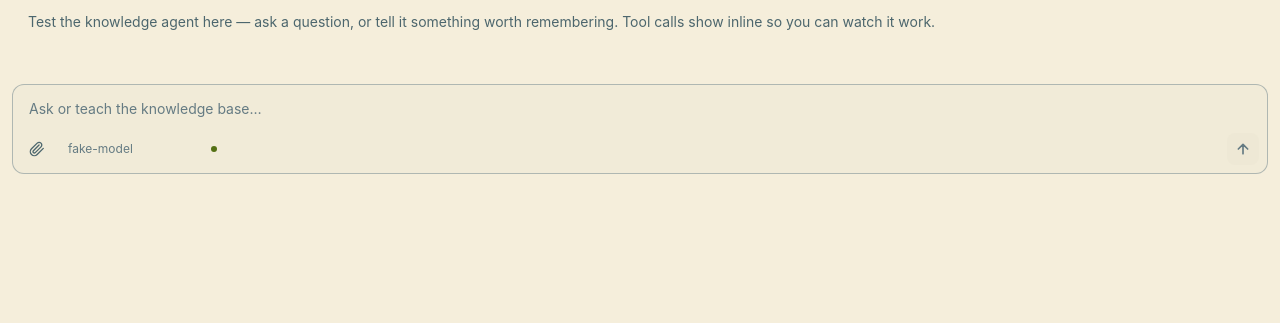
ChatPanel › sends a chosen model when the server allows overrides
The image size is (1280, 323).
Step 1. Type "other" into the field named "Model override" → (133, 149), box [61,136,205,162]
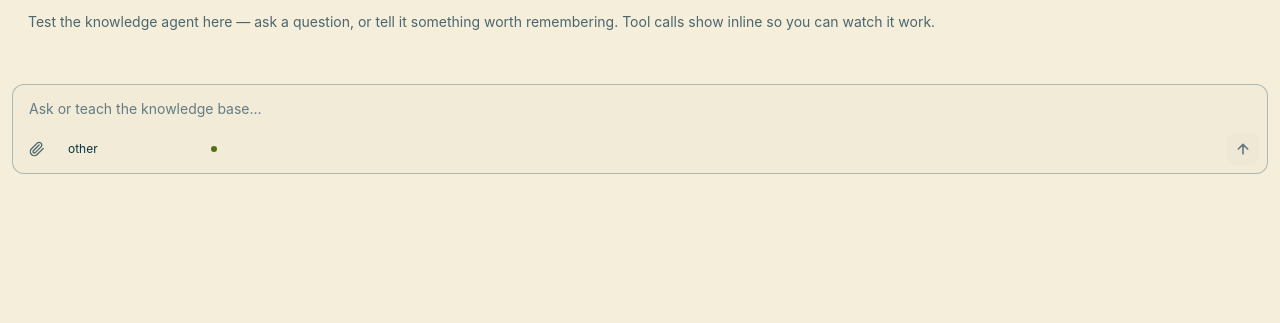
Step 2. Click the field named "Message the agent" → (640, 109), box [13,85,1267,133]
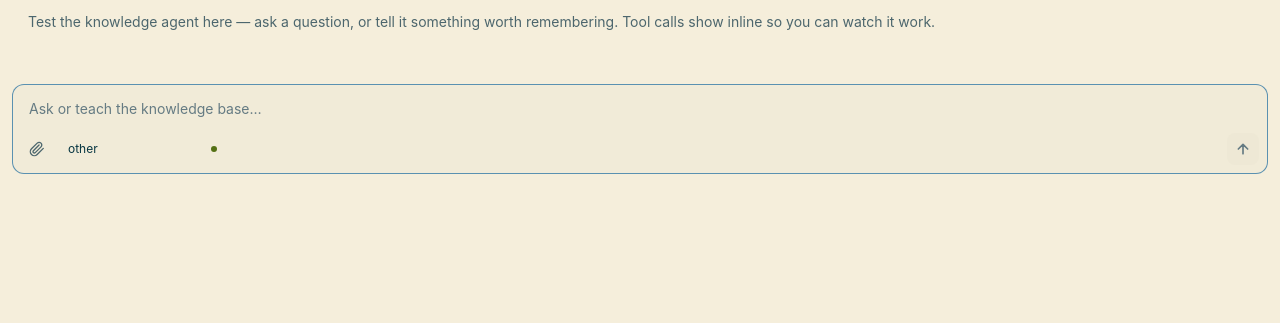
Step 3. Type keys "hi"
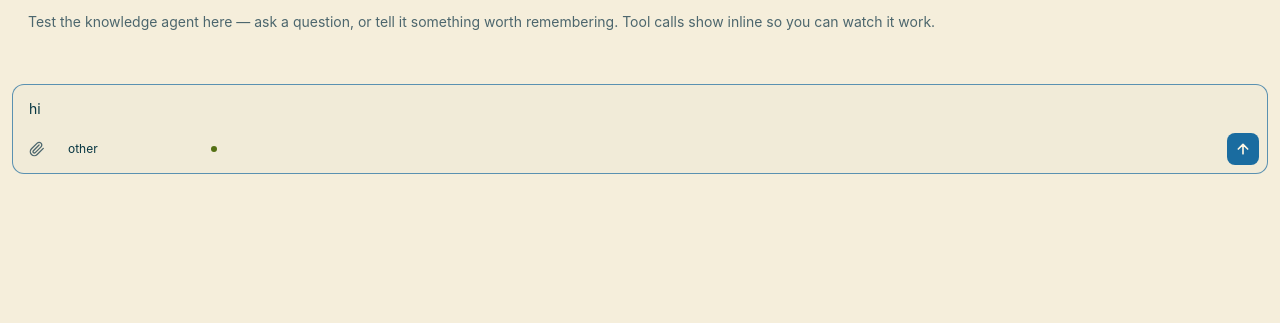
Step 4. Click the button named "Send" → (1243, 149), box [1227,133,1259,165]
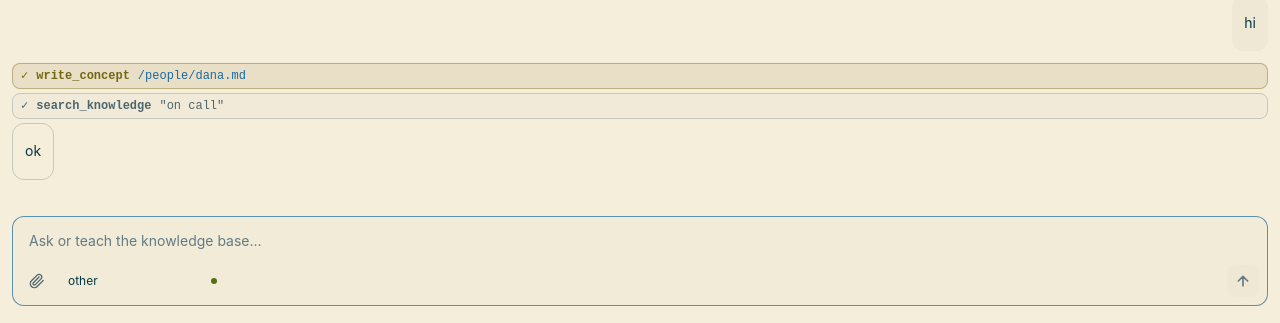
Expected: the text "ok" is shown, [25,140,41,163]
